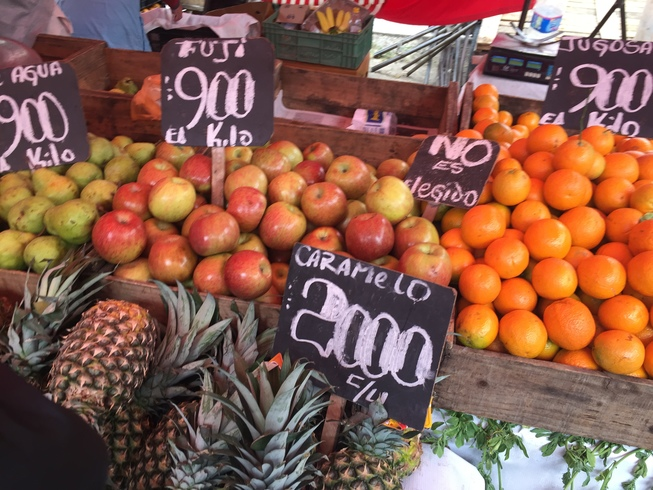precio: (275, 225, 475, 450), (153, 34, 282, 155), (534, 26, 653, 150), (1, 58, 103, 181), (403, 128, 503, 216)
